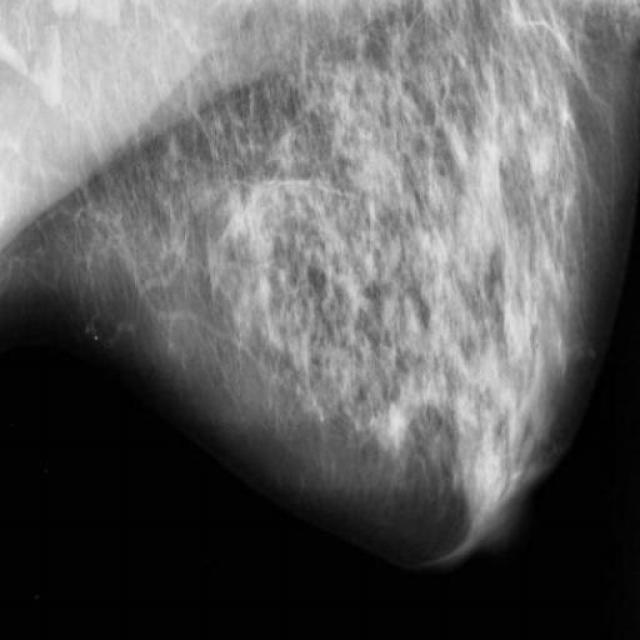cancer: (206, 185, 250, 270)
